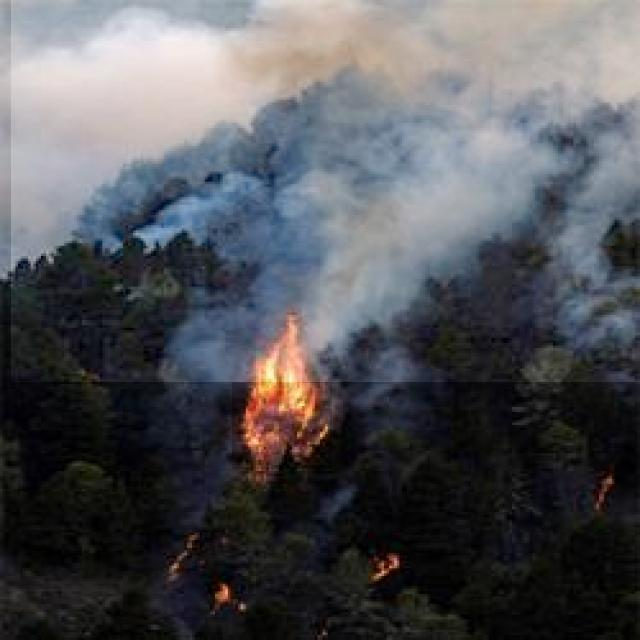Fire: (232, 320, 332, 470)
Smoke: (11, 0, 640, 382)
